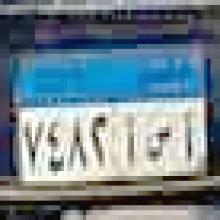2: (89, 109, 112, 164)
4: (46, 117, 67, 177)
7: (20, 118, 45, 173)
8: (70, 114, 86, 171)
alif: (126, 114, 138, 164), (182, 106, 192, 162)
seen: (142, 124, 174, 161)
